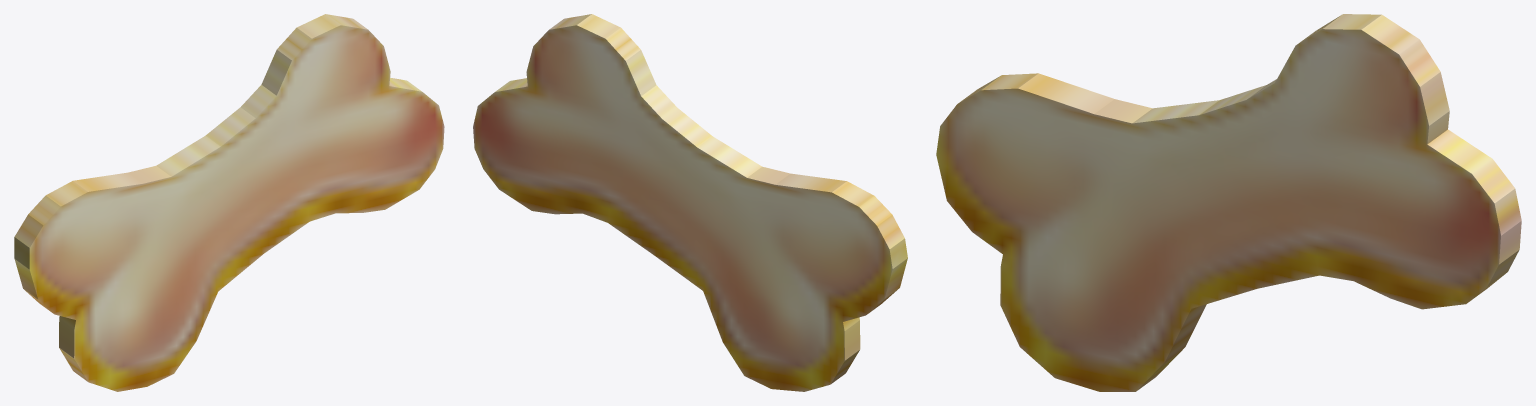
The model's file is bone.glb.
The picture shows the model from 3 angles, left to right: view 1: azimuth 30°, elevation 25°; view 2: azimuth 150°, elevation 25°; view 3: azimuth 330°, elevation 25°; orthographic projection. The views are drawn at different scales.
Visible parts, largest first — view 1: Bone; view 2: Bone; view 3: Bone.
Boxes of the visible parts, box(x1,y1,x2,y2) form: Bone: box(14, 14, 444, 391); Bone: box(473, 14, 907, 391); Bone: box(936, 14, 1521, 391).
Bounding box in the file's own units: 0.4887 × 0.3531 × 0.0348.
1 material, 1 textured.
